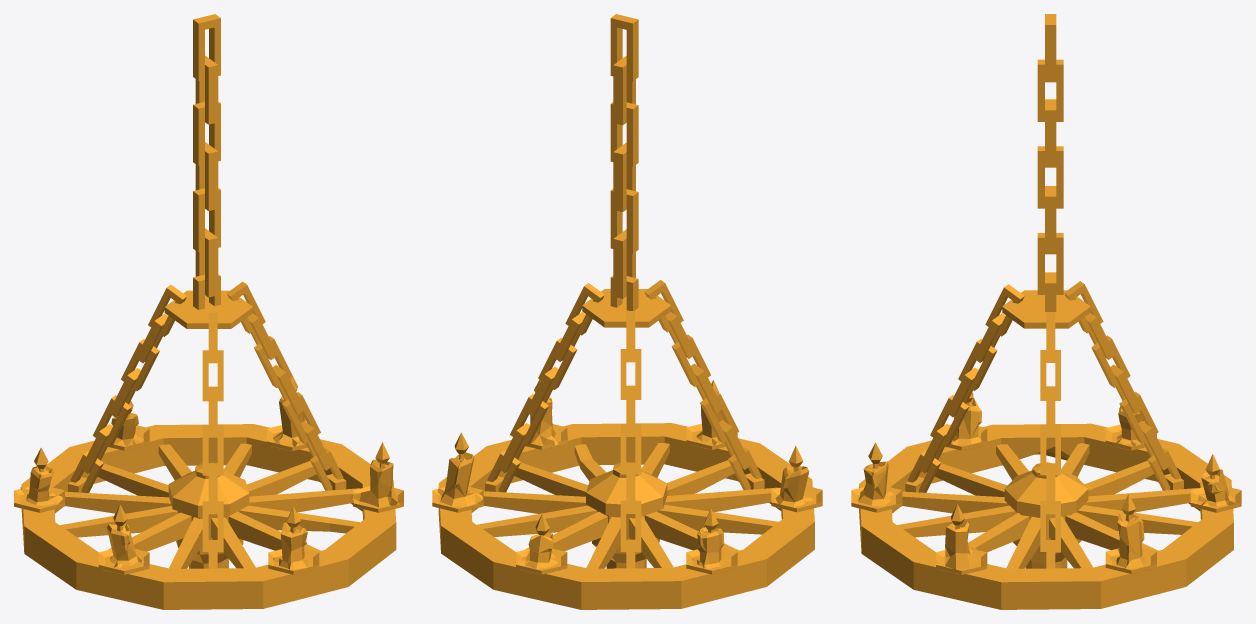
The model's file is SM_Chandelier_Candle_A_Fantasy.fbx.
The picture shows the model from 3 angles, left to right: view 1: azimuth 30°, elevation 25°; view 2: azimuth 150°, elevation 25°; view 3: azimuth 270°, elevation 25°; orthographic projection.
Visible parts, largest first — view 1: chandelier-candle-a-fantasy; view 2: chandelier-candle-a-fantasy; view 3: chandelier-candle-a-fantasy.
Part boxes in pixels (left/top/right/bottom): chandelier-candle-a-fantasy: left=14, top=14, right=403, bottom=609; chandelier-candle-a-fantasy: left=432, top=14, right=822, bottom=609; chandelier-candle-a-fantasy: left=851, top=14, right=1241, bottom=609.
Size of the model in its own units: 0.9721 by 1.6 by 1.01.
